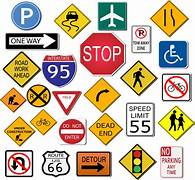right: (83, 78, 120, 113)
stop: (78, 31, 126, 77)
